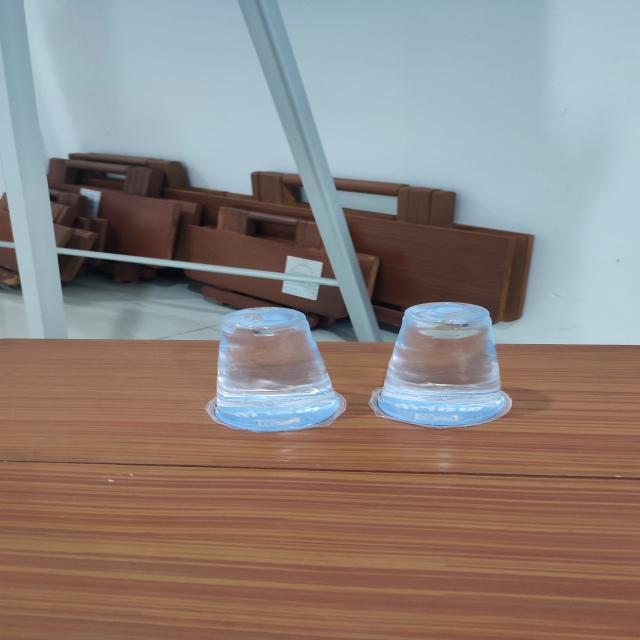air gelas: (188, 302, 357, 440), (371, 296, 518, 435)
